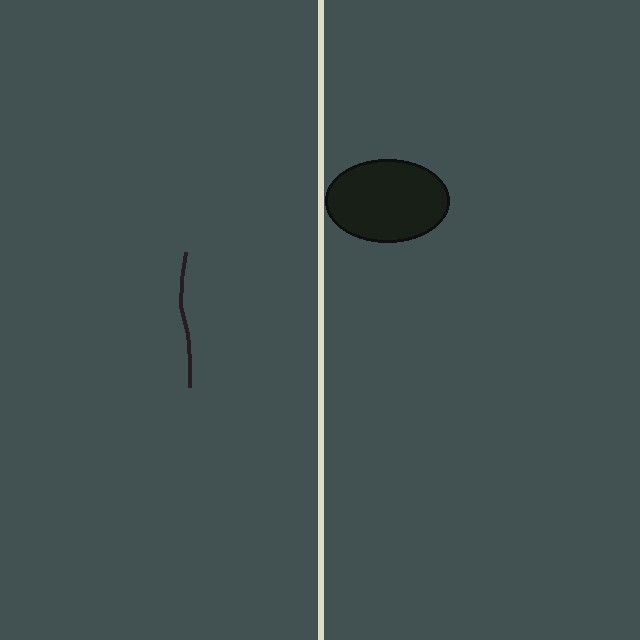longitudinal_crack: (185, 252, 261, 387)
pothole: (325, 159, 449, 242)
